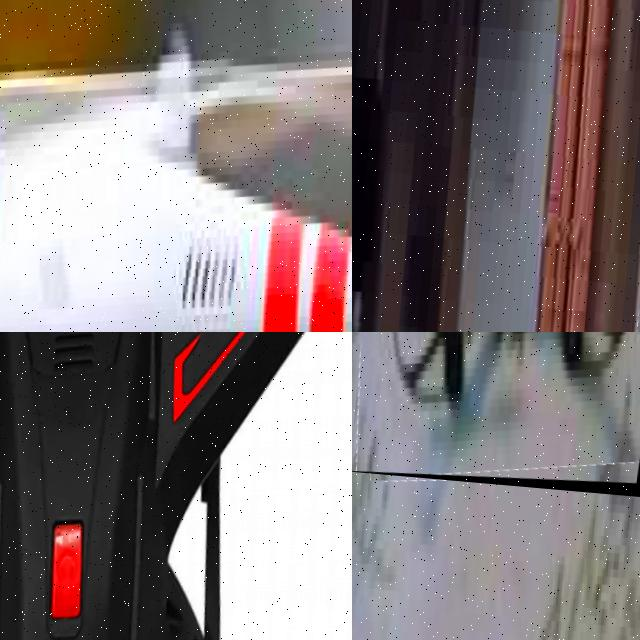drone: (0, 0, 352, 332), (0, 332, 352, 640), (352, 332, 640, 497)
